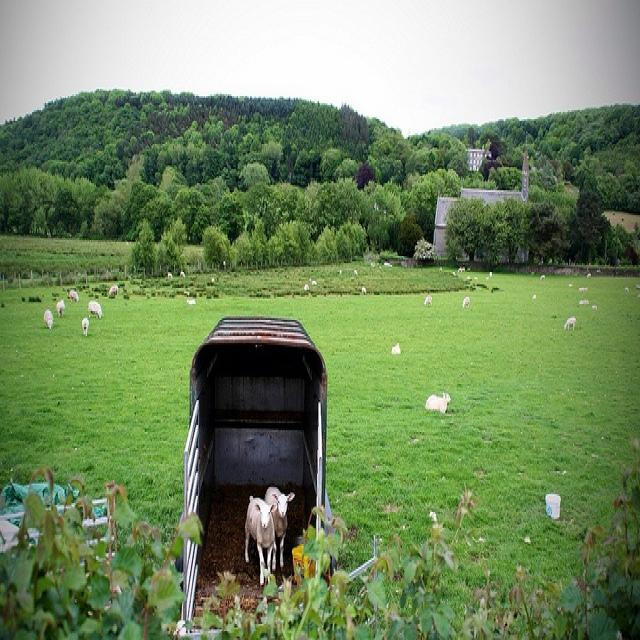truck: (181, 311, 325, 628)
